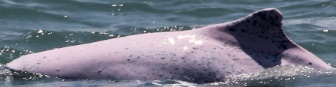fin: (4, 4, 331, 83)
